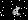person: (13, 6, 24, 19)
